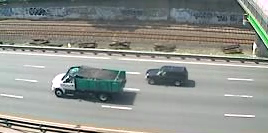car: (49, 64, 132, 104), (144, 64, 190, 88)
